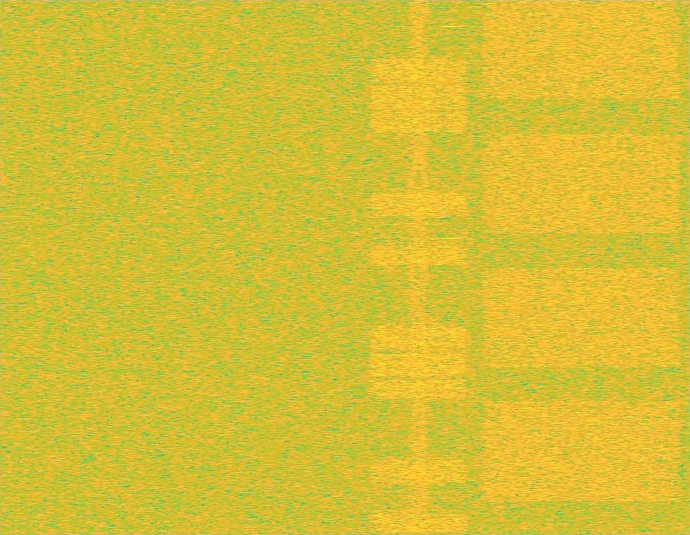5G: (478, 0, 685, 534)
DSSS: (407, 0, 430, 534)
LTE: (367, 0, 471, 534)
Radar: (444, 0, 458, 534)
